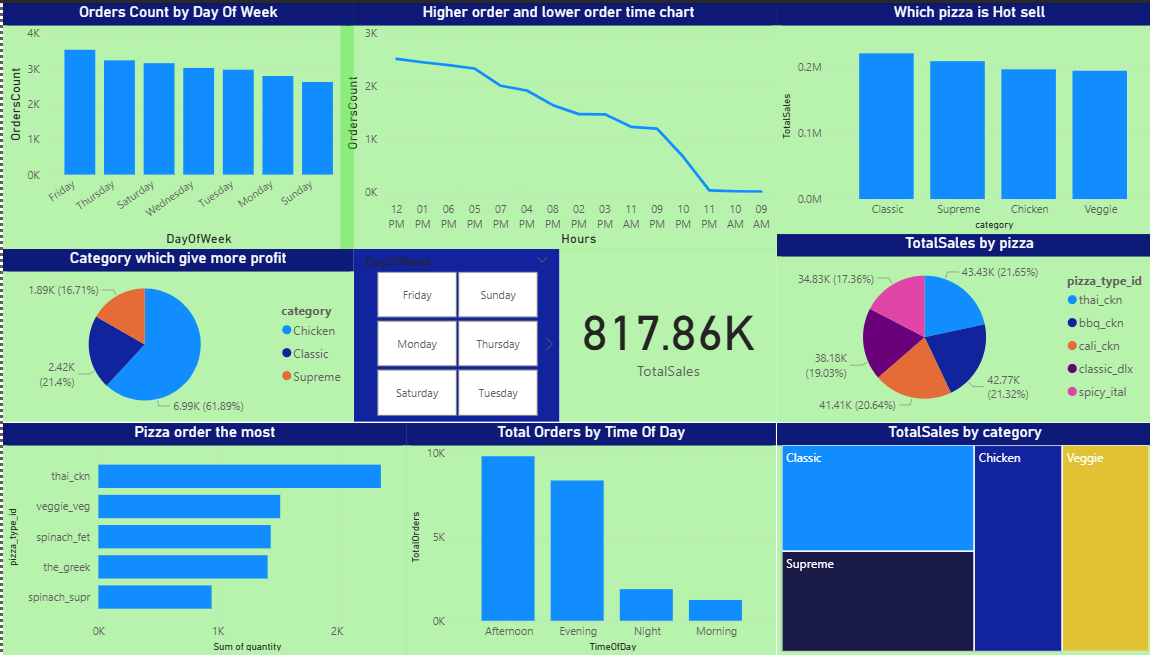

The dashboard page shown, as its layout file describes it:
{"tool":"powerbi","page":{"name":"Page 1","canvas":[1280,720],"ordinal":0},"visuals":[{"type":"lineChart","title":"Higher order and lower order time chart","fields":{"Y":["orders.OrdersCount"],"Category":["orders.HourLabel"]},"box":[372.3,0,481.9,272.1],"z":0},{"type":"columnChart","title":"Orders Count by Day Of Week","fields":{"Y":["orders.OrdersCount"],"Category":["orders.DayOfWeek"]},"box":[0,0,387.4,272.1],"z":1000},{"type":"card","fields":{"Values":["order_details.TotalSales"]},"box":[614.2,272.1,240,190.9],"z":2000},{"type":"clusteredBarChart","title":"Pizza order the most","fields":{"Category":["pizzas.pizza_type_id"],"Y":["Sum(order_details.quantity)"]},"box":[0,463,446,257],"z":3000},{"type":"pieChart","title":"TotalSales by pizza","fields":{"Category":["pizzas.pizza_type_id"],"Y":["order_details.TotalSales"]},"box":[854.2,255.1,425.2,207.9],"z":4000},{"type":"columnChart","title":"Total Orders by Time Of Day","fields":{"Category":["orders.TimeOfDay"],"Y":["orders.TotalOrders"]},"box":[446,463,408.2,257],"z":5000},{"type":"columnChart","title":"Which pizza is Hot sell","fields":{"Category":["pizza_types.category"],"Y":["order_details.TotalSales"]},"box":[854.2,0,425.2,255.1],"z":6000},{"type":"slicer","fields":{"Values":["orders.DayOfWeek"]},"box":[387.4,272.1,226.8,190.9],"z":7000},{"type":"treemap","fields":{"Group":["pizza_types.category"],"Values":["order_details.TotalSales"]},"box":[854.2,463,415.8,257],"z":8000},{"type":"pieChart","title":"Category which give more profit","fields":{"Y":["CountNonNull(order_details.profit)"],"Category":["pizza_types.category"]},"box":[0,272.1,387.4,190.9],"z":8001}]}

Visuals, with their boxes in screenshot pixels (x1, y1, x2, y2), scaled from the page's 1280x720 canvas onto the 1150x655 screenshot:
"Higher order and lower order time chart" lineChart: (334,0,767,248)
"Orders Count by Day Of Week" columnChart: (0,0,348,248)
card - order_details.TotalSales: (552,248,767,421)
"Pizza order the most" clusteredBarChart: (0,421,401,654)
"TotalSales by pizza" pieChart: (767,232,1149,421)
"Total Orders by Time Of Day" columnChart: (401,421,767,654)
"Which pizza is Hot sell" columnChart: (767,0,1149,232)
slicer - orders.DayOfWeek: (348,248,552,421)
treemap - pizza_types.category x order_details.TotalSales: (767,421,1141,654)
"Category which give more profit" pieChart: (0,248,348,421)
